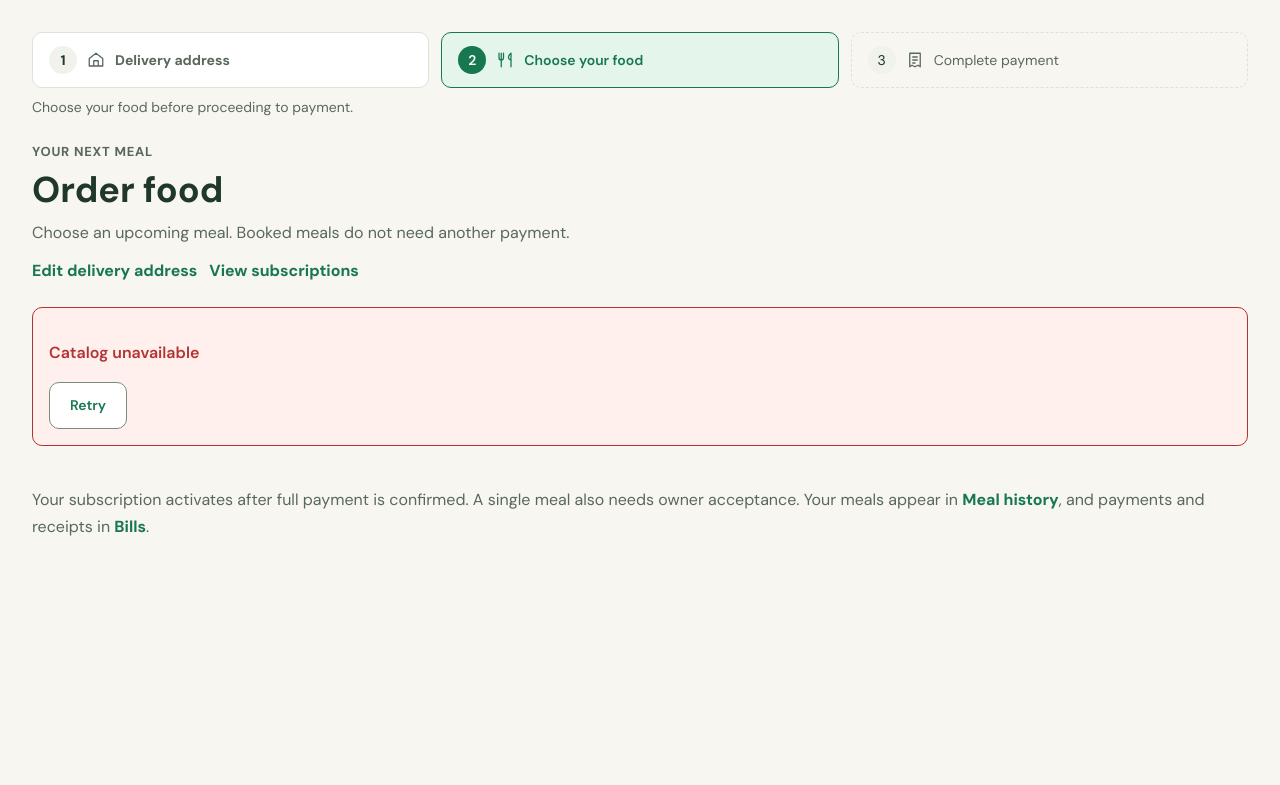
Scenario: retries a failed catalog read without retrying checkout or leaving a loading claim on the error screen
Click the button "Retry": (88, 406) [49, 382, 127, 429]
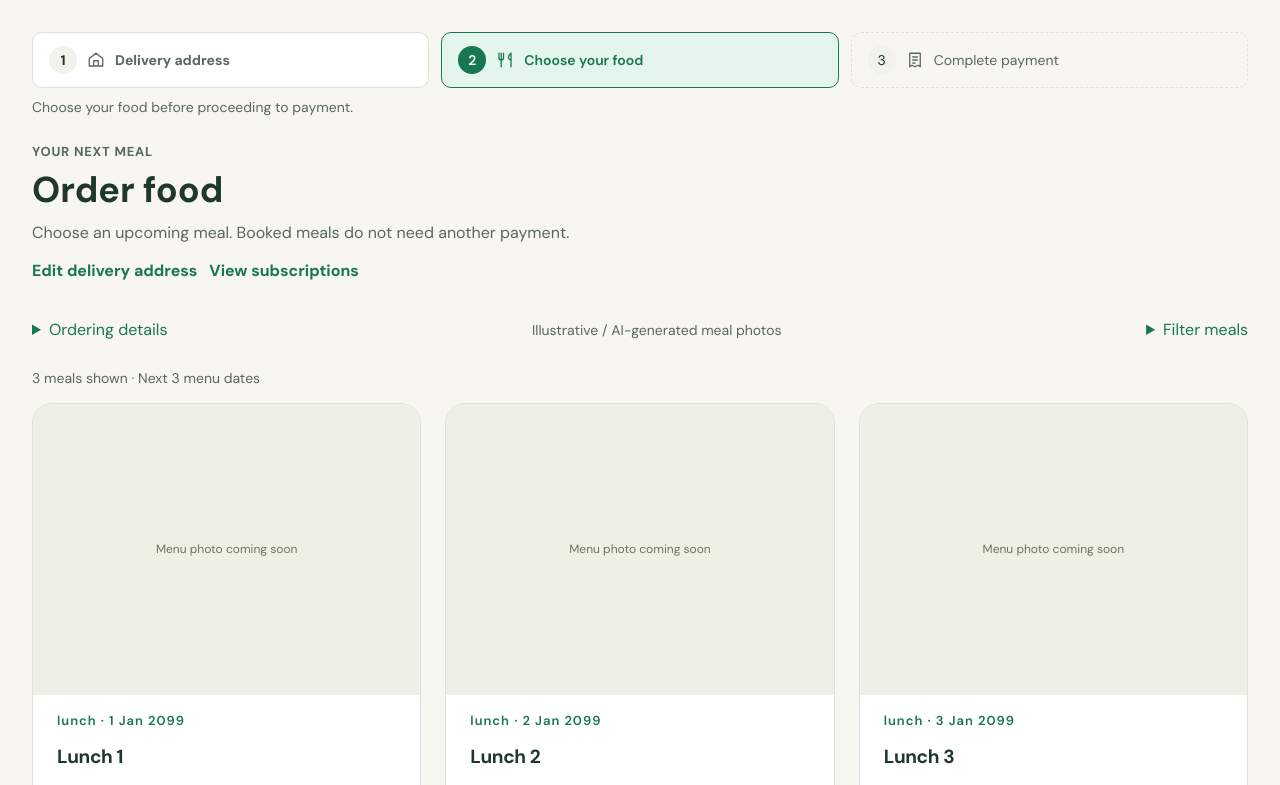
Expected: the heading "Lunch 1" is shown, [57, 744, 123, 769]
